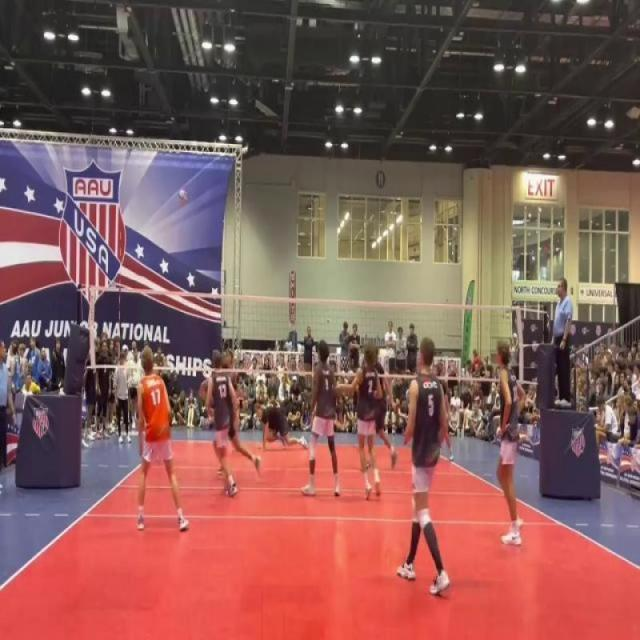volleyball: (178, 189, 190, 207)
